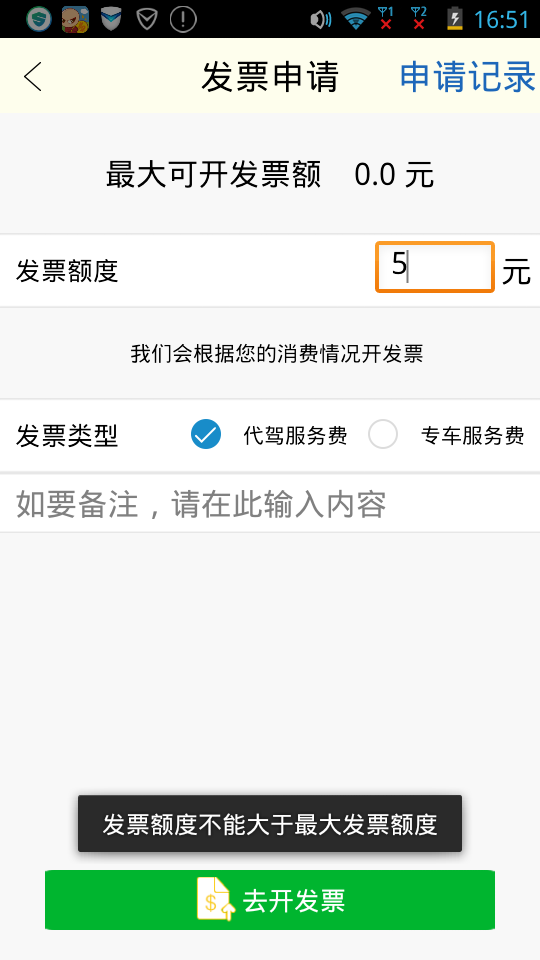alert: (75, 791, 469, 858)
button: (43, 862, 506, 937)
checkbox: (181, 405, 353, 460), (365, 406, 531, 462)
imgbutton: (10, 51, 54, 99)
textview: (3, 474, 540, 537), (88, 142, 455, 207), (367, 239, 500, 296)
